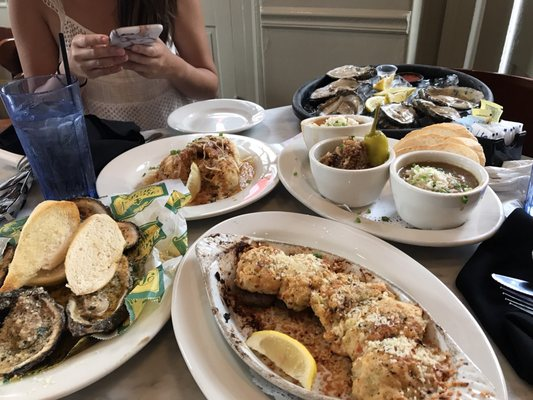burger: (492, 273, 533, 319), (0, 169, 31, 219), (500, 285, 533, 319)
pizza: (1, 73, 99, 202)
soup: (61, 214, 136, 338), (0, 199, 81, 294)
sushi: (195, 232, 499, 400), (389, 150, 491, 230), (306, 133, 393, 210), (301, 113, 376, 151)
